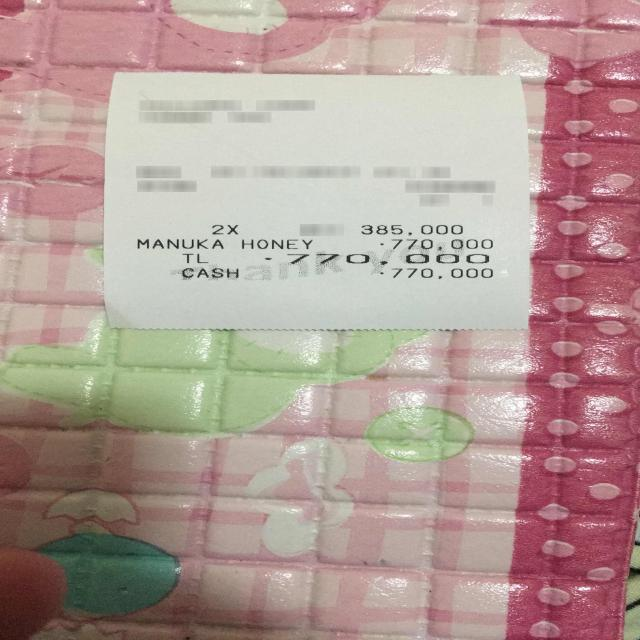kertas: (104, 72, 531, 330)
